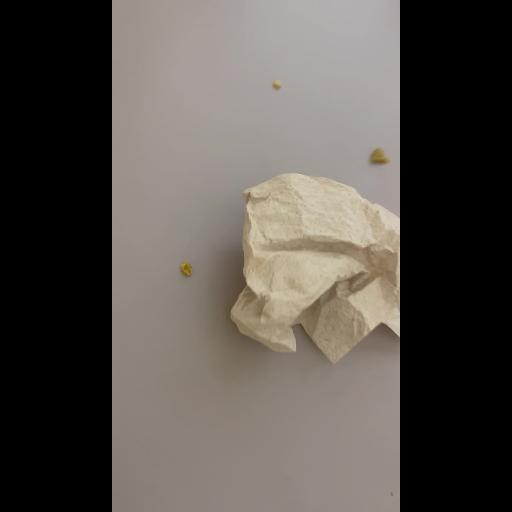napkin: (230, 172, 398, 360)
